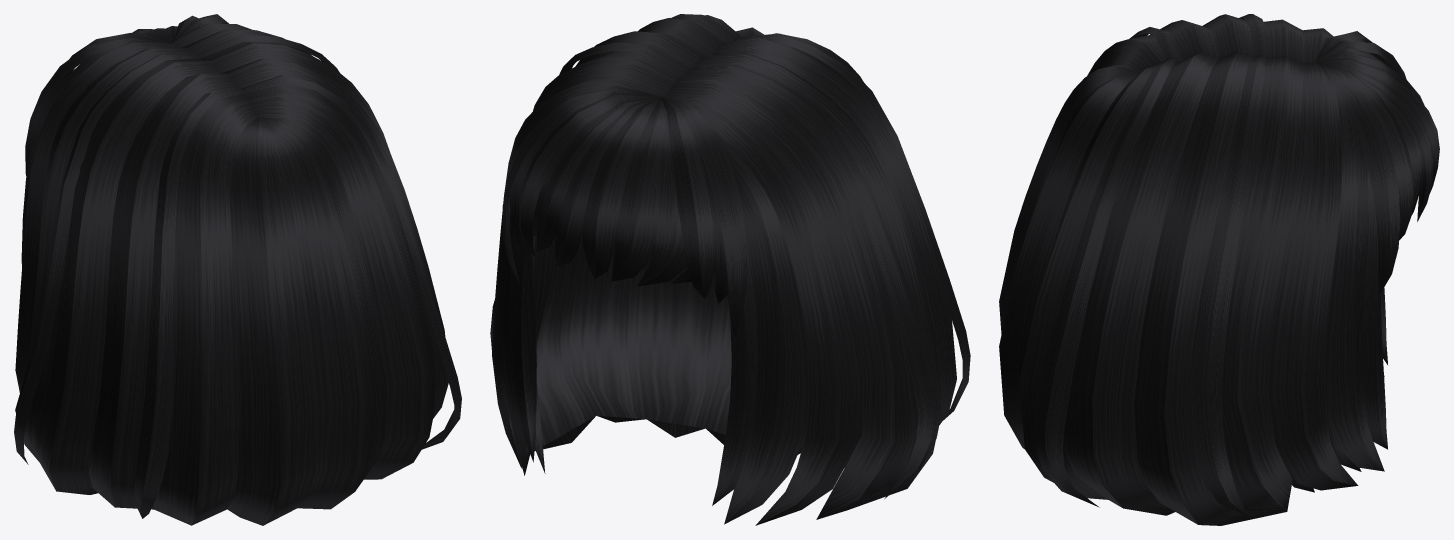
The picture shows the model from 3 angles, left to right: view 1: azimuth 30°, elevation 25°; view 2: azimuth 150°, elevation 25°; view 3: azimuth 270°, elevation 25°; orthographic projection. The views are drawn at different scales.
Parts seen in each view (by area): view 1: geometry_0; view 2: geometry_0; view 3: geometry_0.
Part boxes in pixels (bbox=[...]): geometry_0: bbox=[14, 14, 461, 525]; geometry_0: bbox=[490, 14, 970, 525]; geometry_0: bbox=[999, 14, 1439, 525].
Bounding box in the file's own units: 1.73 × 1.7 × 1.55.
1 material, 1 textured.
